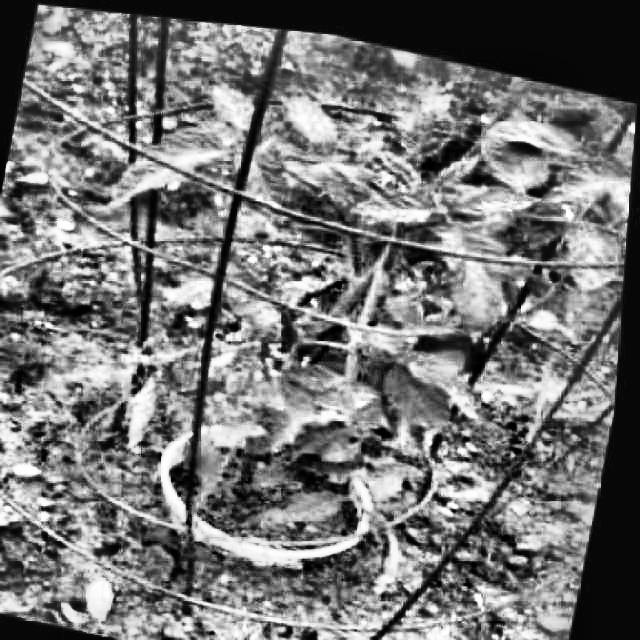plants: (78, 36, 614, 633)
